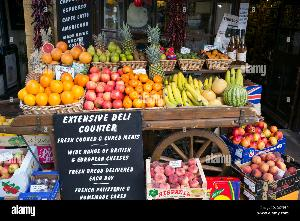apple: (84, 70, 122, 114)
banana: (162, 72, 210, 112)
lime: (176, 51, 204, 65)
orange: (18, 72, 88, 110), (122, 63, 162, 108), (39, 38, 91, 66)
peach: (148, 158, 204, 198), (242, 149, 300, 183), (232, 123, 288, 151)
pear: (86, 40, 128, 63)
